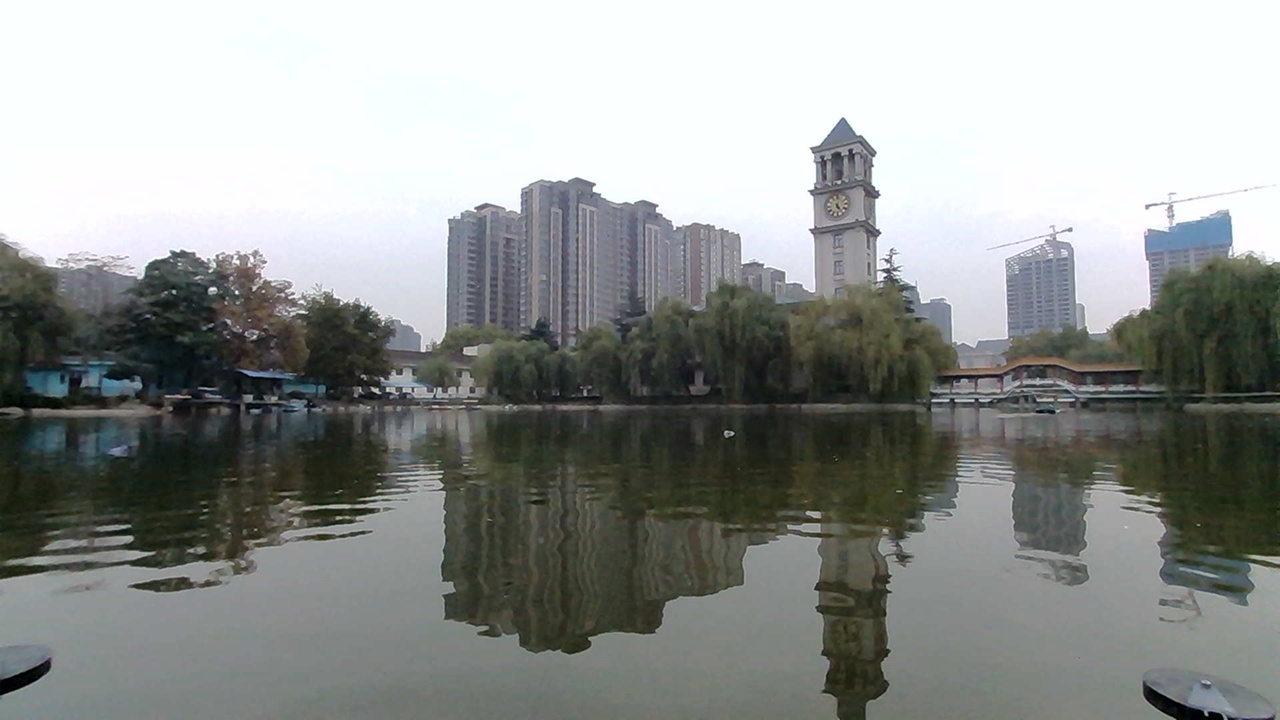bottle: (96, 431, 145, 468), (706, 416, 749, 445)
